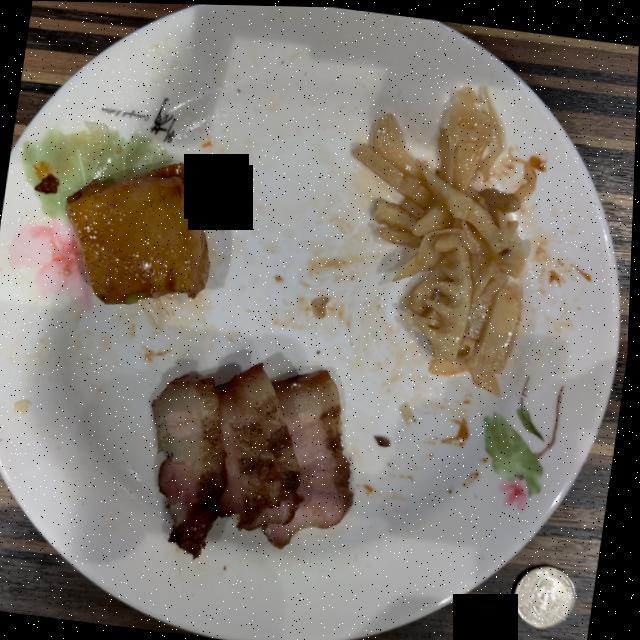coin: (517, 563, 580, 625)
creamy tofu: (67, 162, 212, 303)
red grilled pork: (154, 362, 357, 557)
